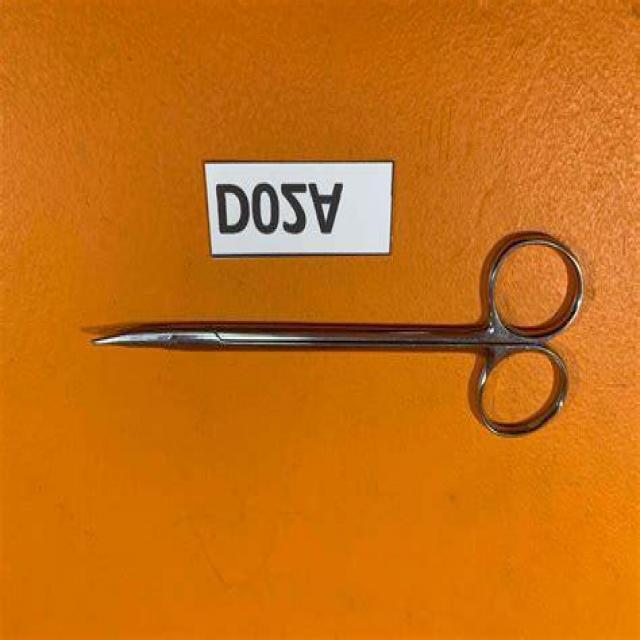Mayo_metz: (87, 227, 588, 445)
